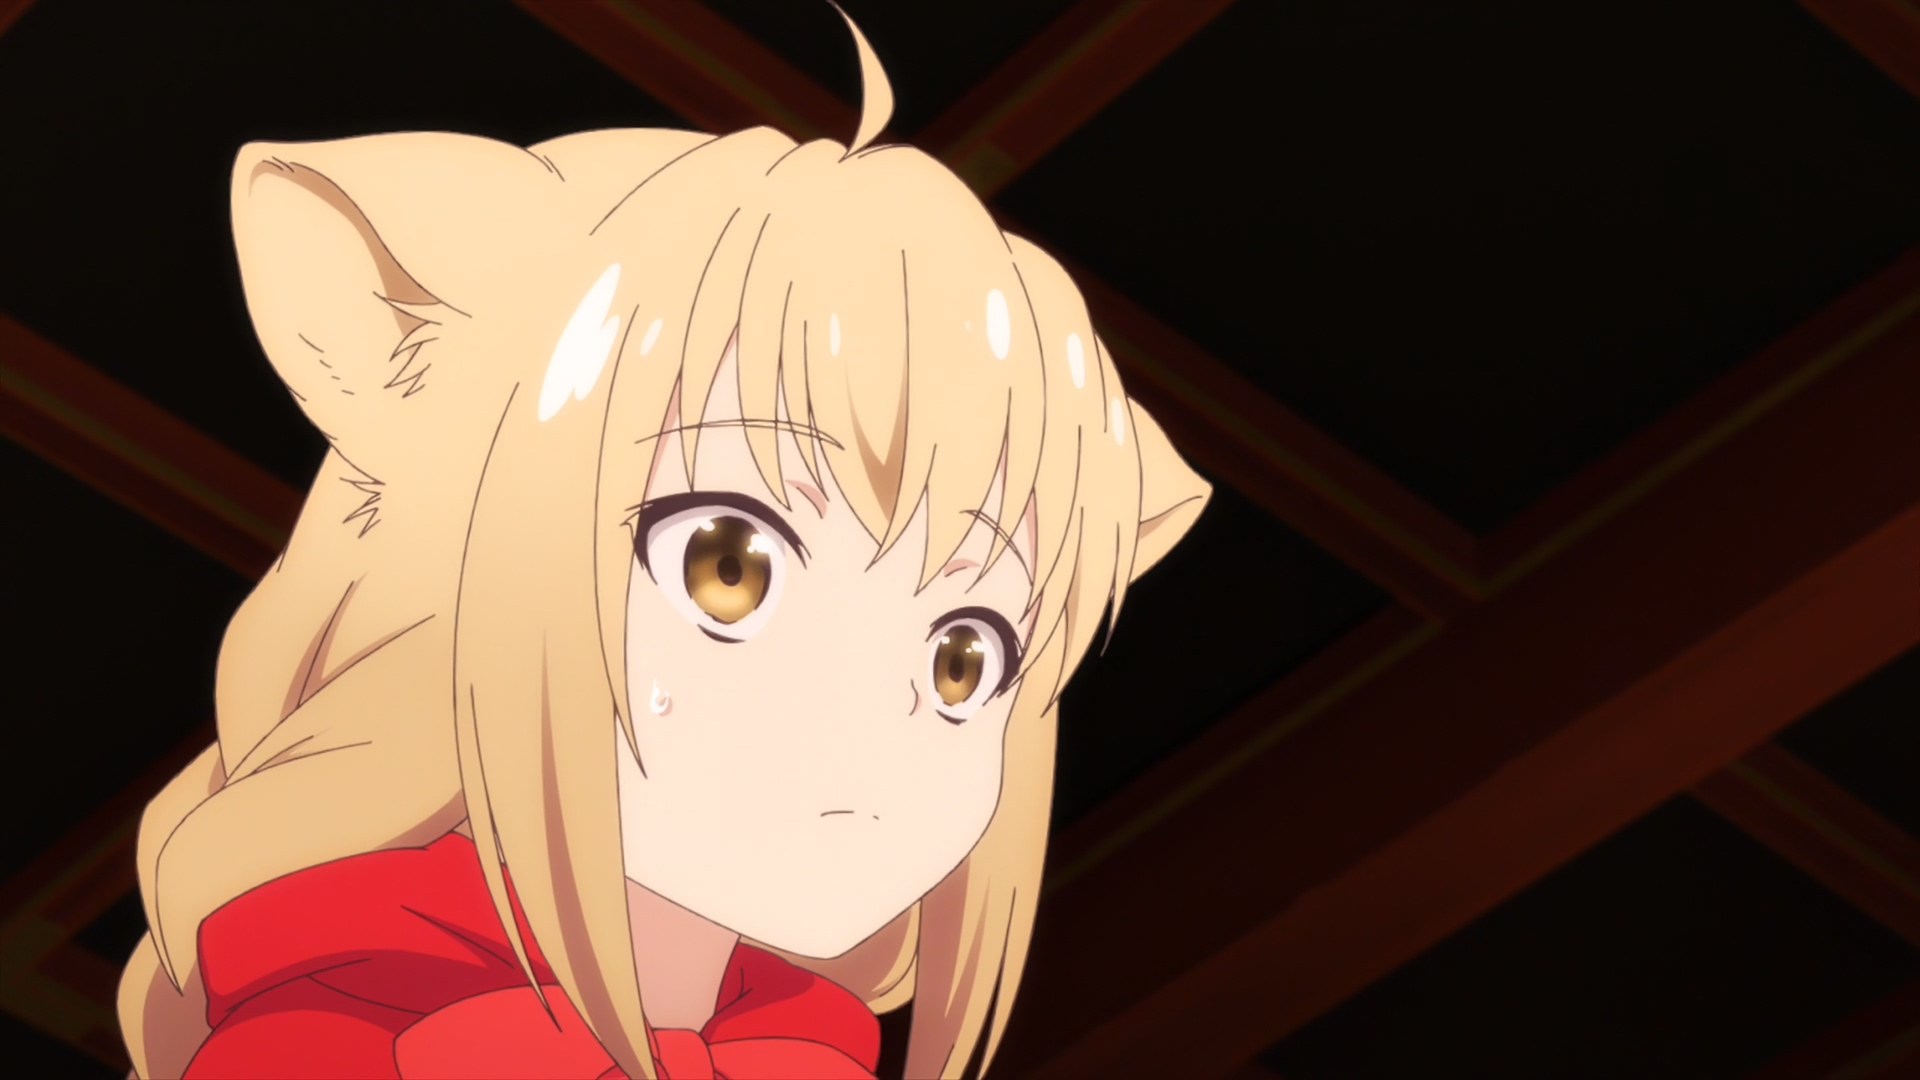柚: (115, 1, 1212, 1080)
